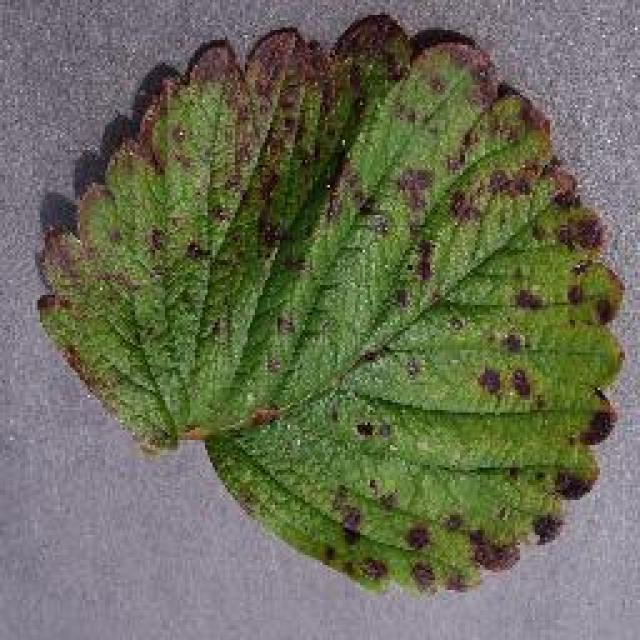Strawberry leaf scorch: (165, 88, 515, 432)
